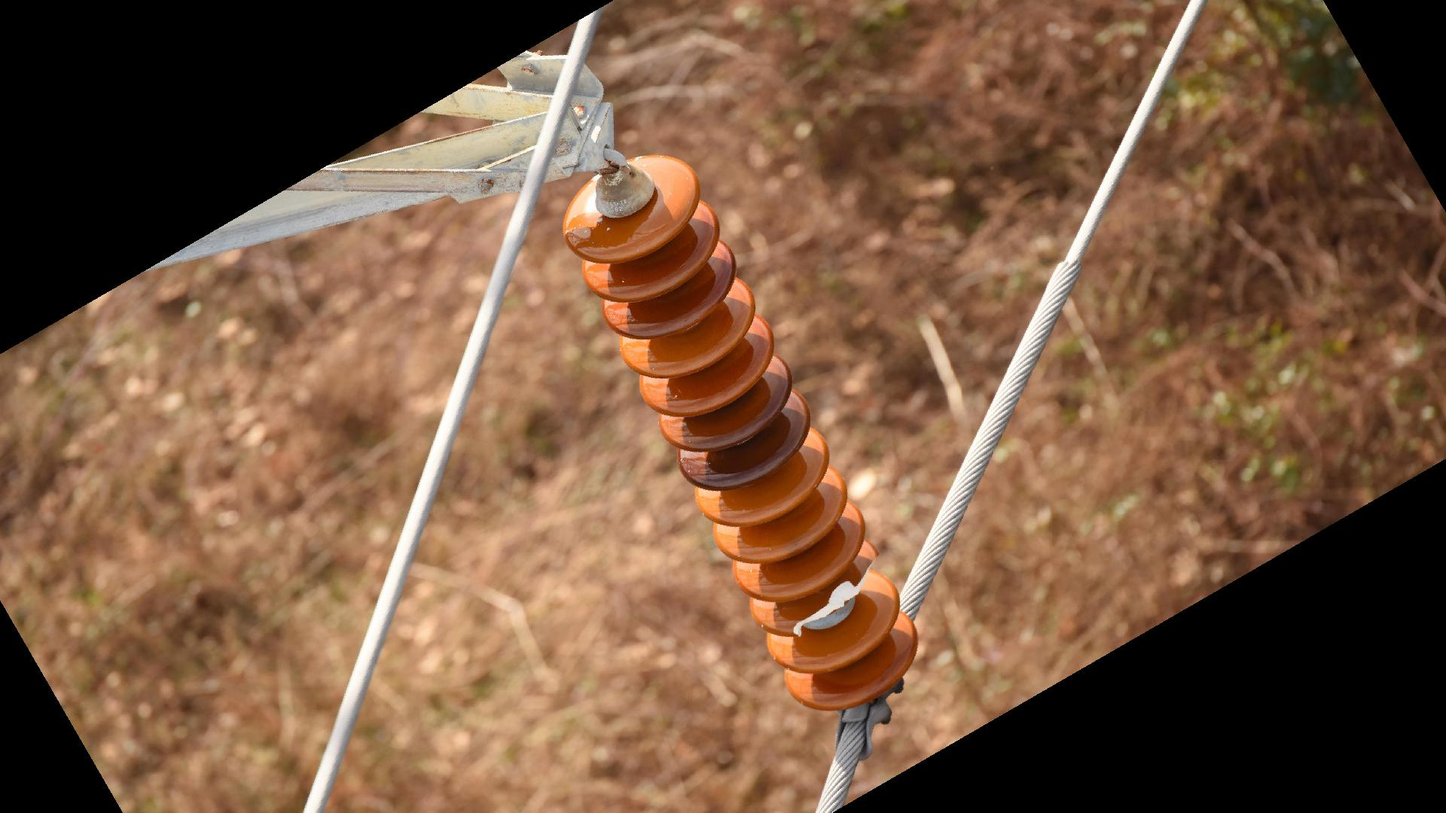insulator: (558, 151, 925, 715)
insulator_breakage: (789, 547, 885, 642)
